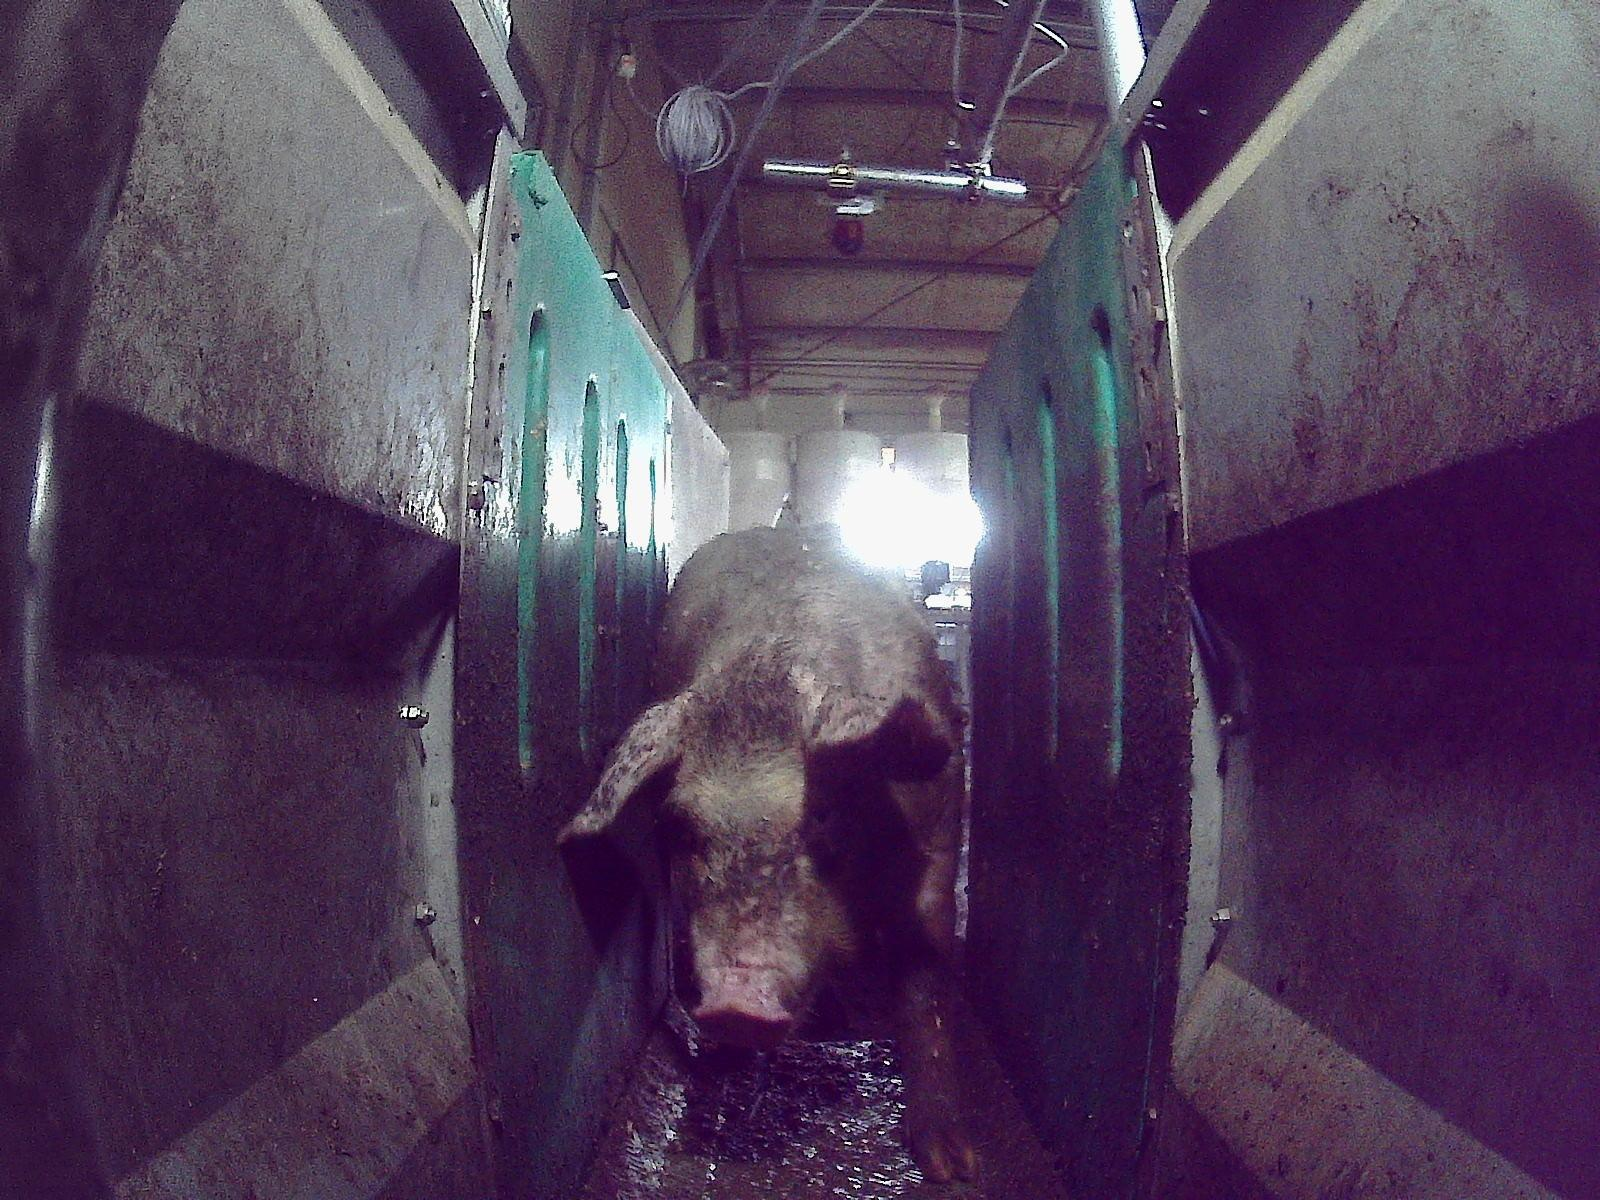Face: (655, 695, 868, 1048)
